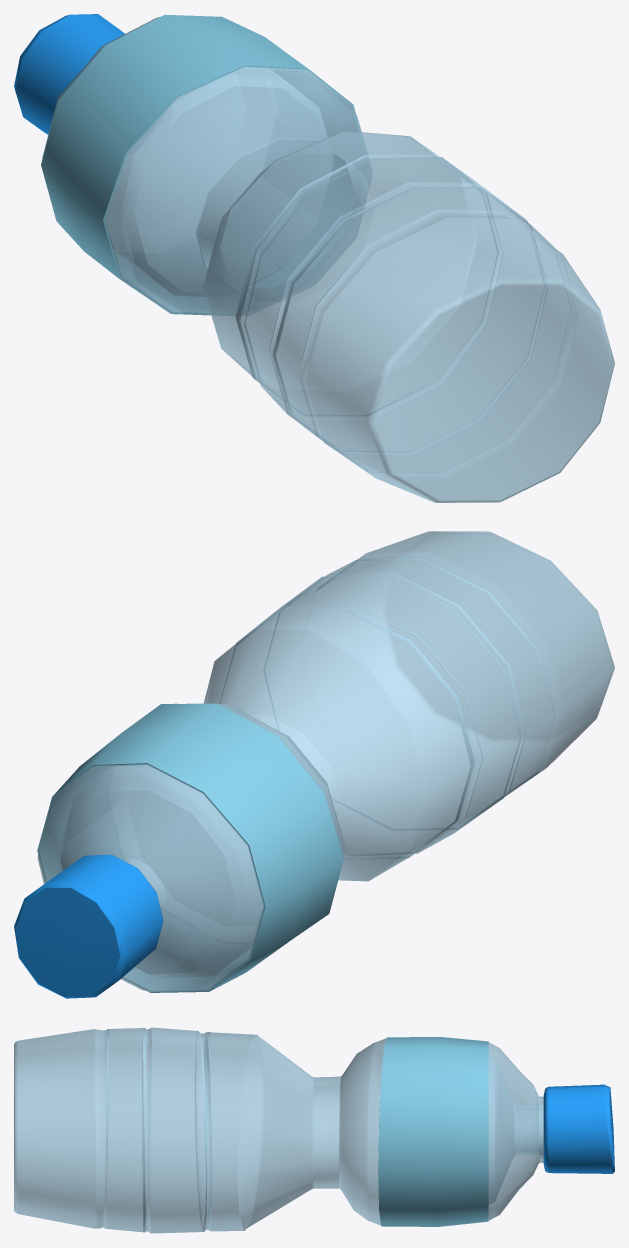
File: BOTTLE_PRIM.fbx
The picture shows the model from 3 angles, top to bottom: view 1: azimuth 30°, elevation 25°; view 2: azimuth 150°, elevation 25°; view 3: azimuth 270°, elevation 25°; orthographic projection. The views are drawn at different scales.
Visible parts, largest first — view 1: BOTTLE_PRIM; view 2: BOTTLE_PRIM; view 3: BOTTLE_PRIM.
Boxes of the visible parts, x1,y1,x2,y2 form: BOTTLE_PRIM: (14,14,614,502); BOTTLE_PRIM: (14,531,614,998); BOTTLE_PRIM: (14,1027,614,1233).
Size of the model in its own units: 6.79 by 6.3 by 18.58.
